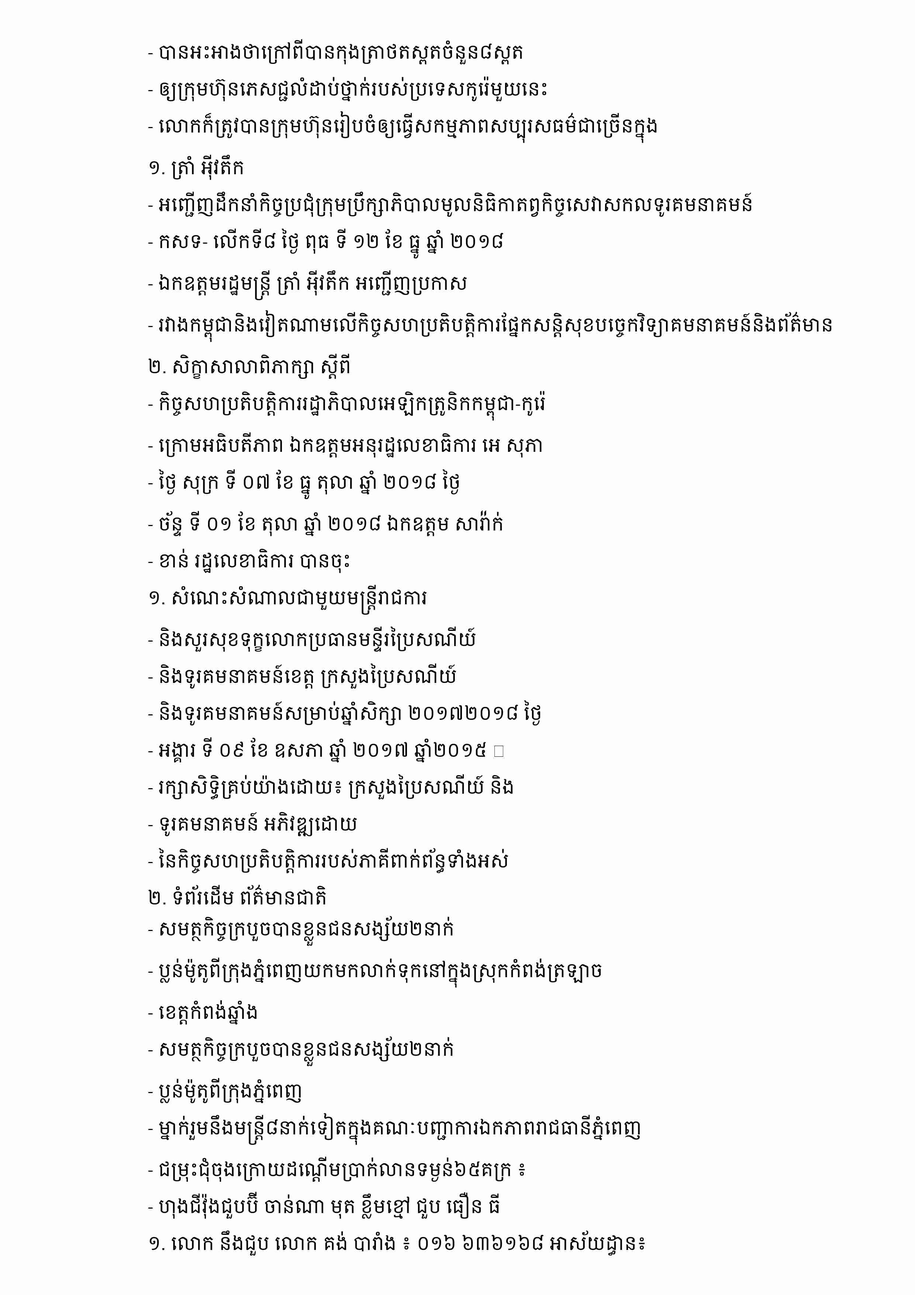text: (148, 310, 838, 342), (148, 111, 663, 143), (148, 1113, 647, 1145), (148, 192, 758, 217), (148, 958, 608, 988), (148, 1230, 652, 1256), (148, 391, 551, 421), (148, 229, 509, 259), (148, 76, 553, 102), (148, 432, 548, 458), (148, 700, 547, 726), (148, 39, 529, 65), (148, 270, 473, 300), (148, 774, 520, 800), (148, 1192, 505, 1219), (148, 1157, 532, 1182), (148, 469, 466, 499), (148, 737, 510, 763), (148, 510, 509, 536), (148, 916, 459, 946), (148, 1036, 459, 1066), (148, 848, 514, 873), (148, 626, 481, 652), (148, 585, 432, 615), (148, 663, 462, 689), (148, 812, 363, 837), (148, 354, 356, 379), (148, 549, 356, 573), (148, 1078, 308, 1103), (148, 884, 332, 904), (148, 1000, 263, 1025), (148, 155, 249, 180)
